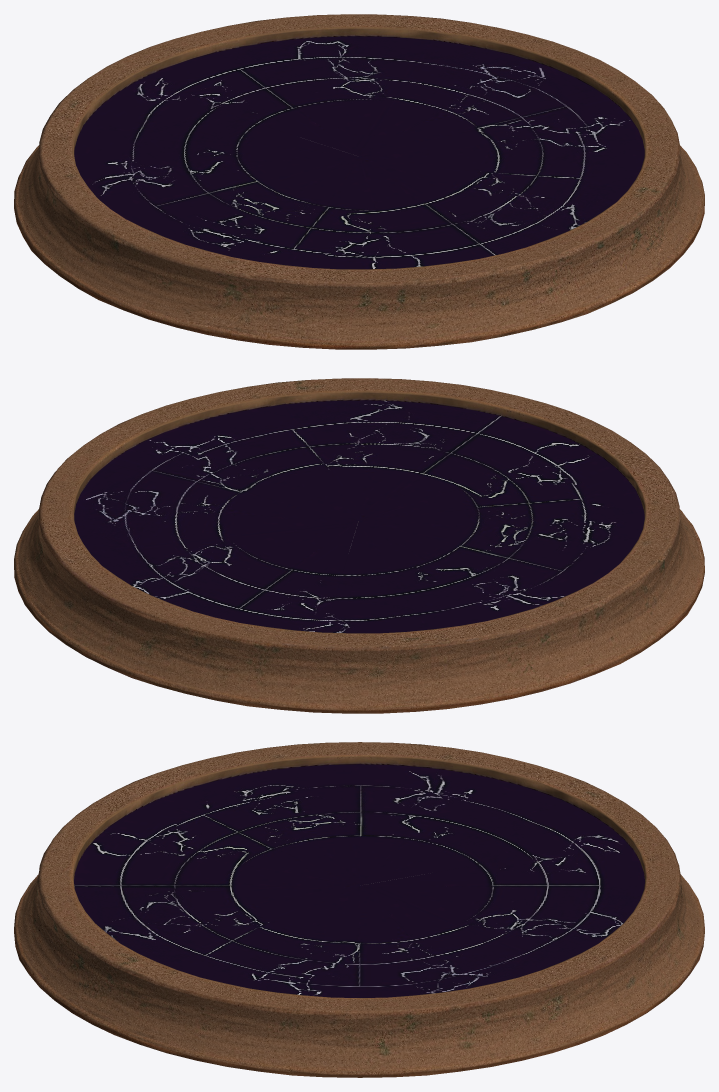
The model's file is tripo_convert_62a79d90-238d-4e72-bae7-0546e0eff583.fbx.
3 renders of one model, top to bottom at view 1: azimuth 30°, elevation 25°; view 2: azimuth 150°, elevation 25°; view 3: azimuth 270°, elevation 25°, orthographic.
Parts seen in each view (by area): view 1: tripo_node_62a79d90; view 2: tripo_node_62a79d90; view 3: tripo_node_62a79d90.
Boxes of the visible parts, left/top/right/bottom form: tripo_node_62a79d90: left=14, top=14, right=704, bottom=349; tripo_node_62a79d90: left=14, top=378, right=704, bottom=713; tripo_node_62a79d90: left=14, top=742, right=704, bottom=1077.
Bounding box in the file's own units: 0.998 × 0.0879 × 0.998.
Materials: 1 (1 with a texture image).
